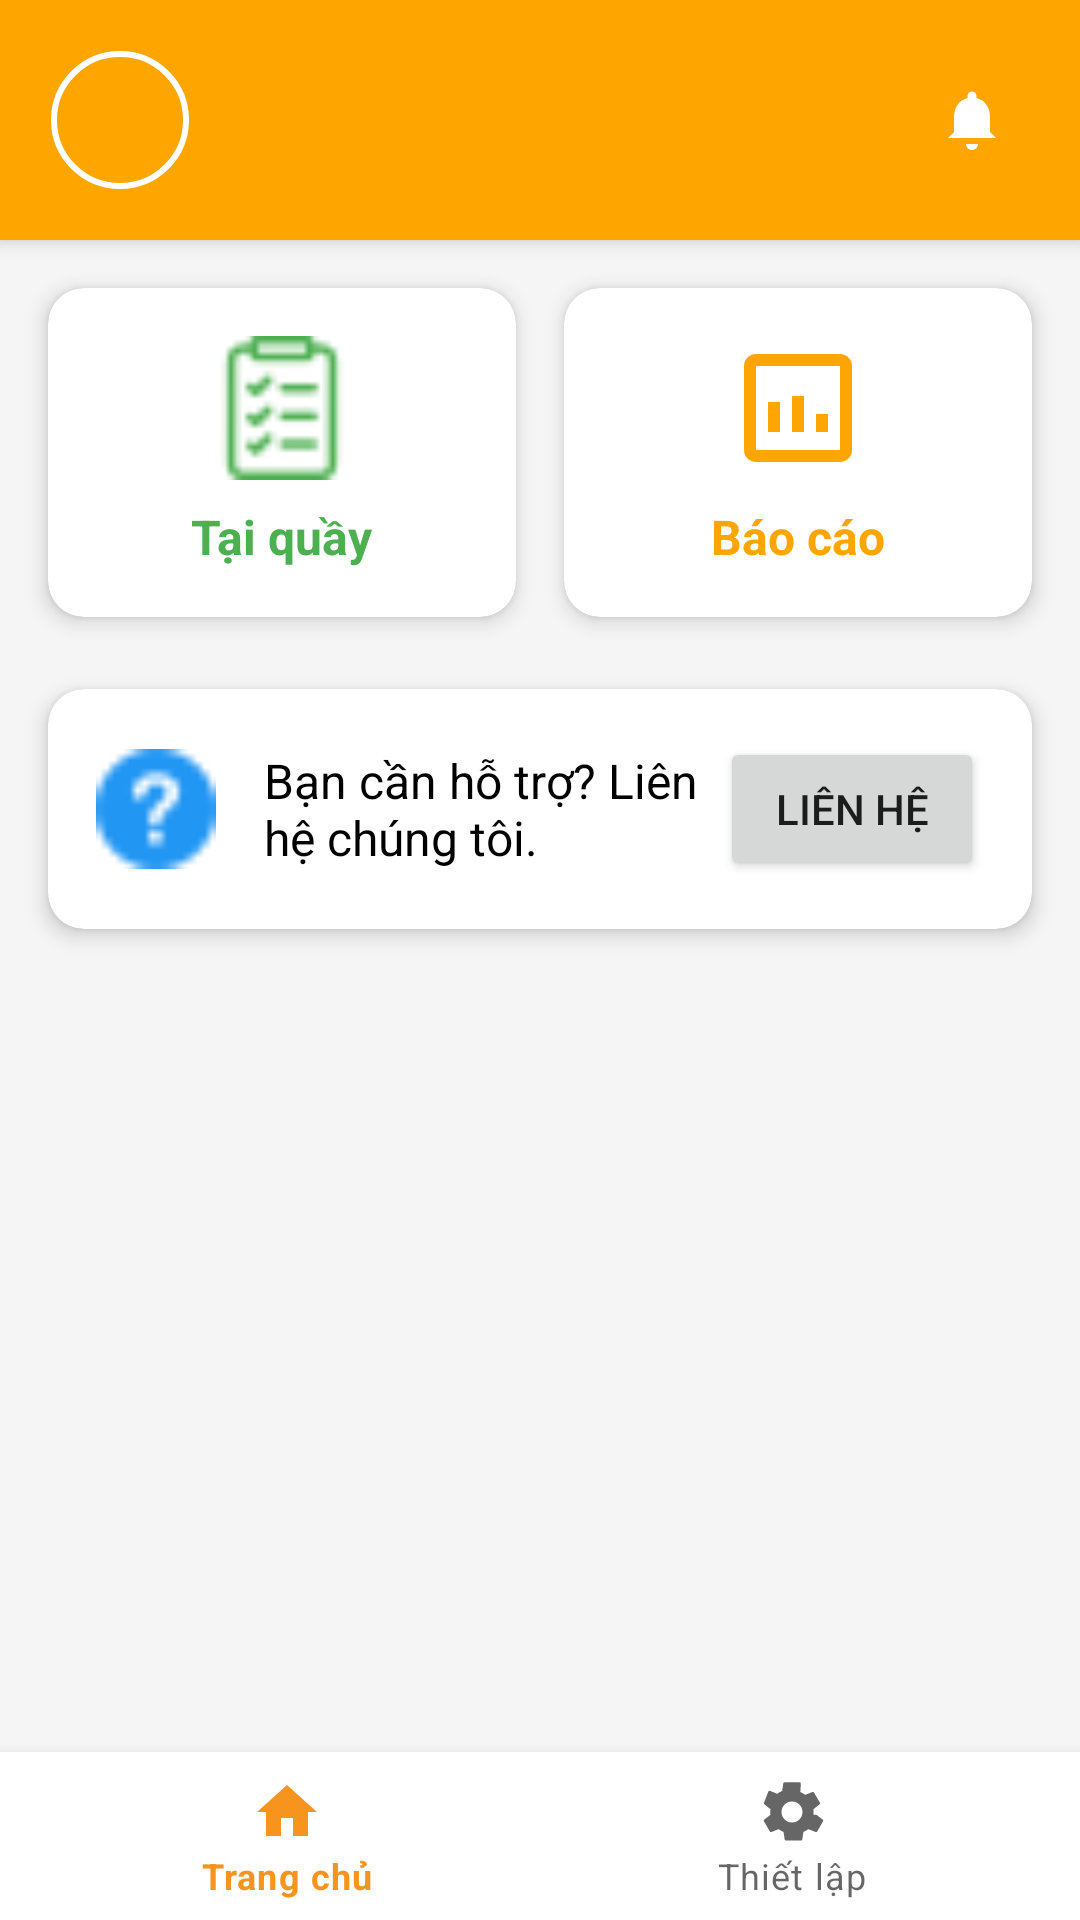

Icons on this 1080*1920 Android screen, each with the point to tap as (x,y):
Thông báo: (972,120)
